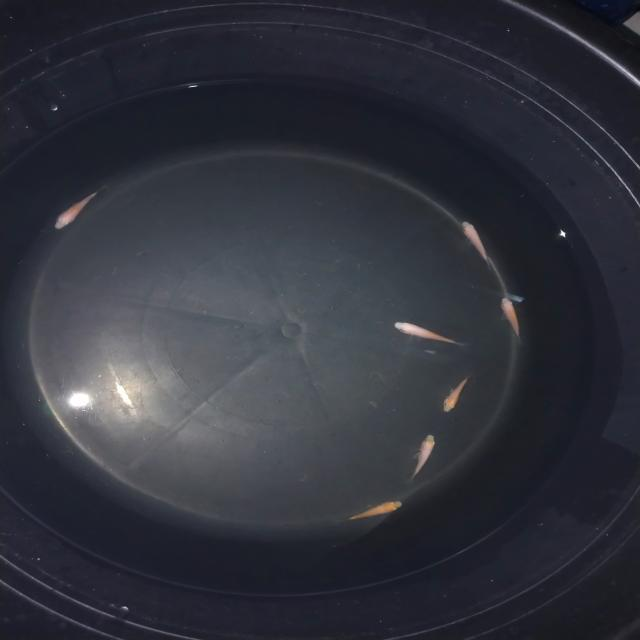nila: (49, 184, 106, 232), (390, 318, 470, 352), (456, 217, 498, 270), (496, 294, 532, 346), (404, 431, 438, 484), (342, 498, 406, 524), (441, 376, 471, 416)
